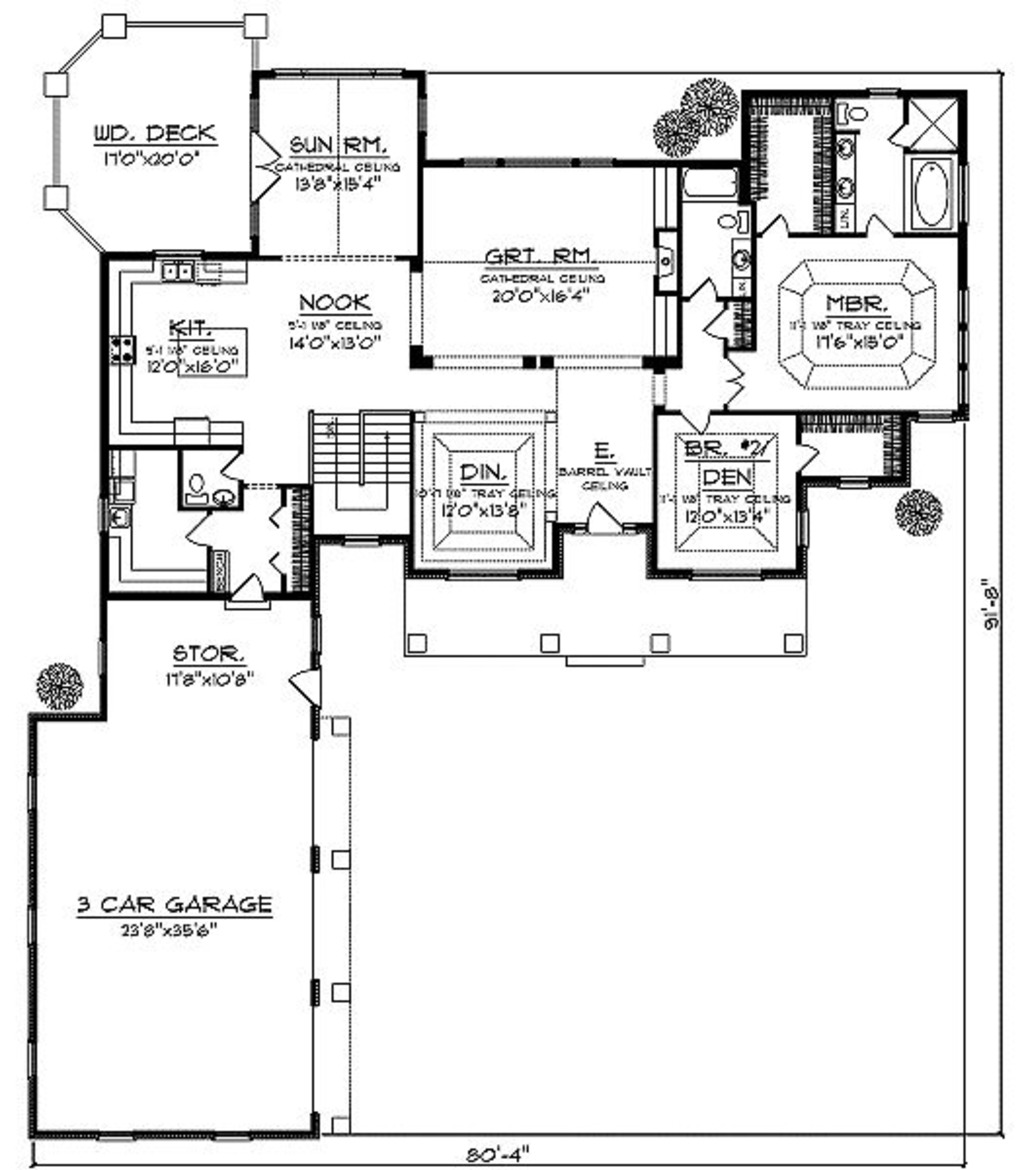door: (244, 129, 285, 205), (285, 661, 332, 716), (581, 498, 633, 543), (714, 348, 754, 406), (228, 576, 270, 619), (683, 268, 724, 305), (176, 513, 217, 547)
stairs: (302, 400, 422, 558)
tub: (904, 151, 961, 240), (674, 161, 739, 200)
twin_sink: (159, 255, 202, 287)
windows: (257, 62, 409, 87), (949, 280, 976, 413), (19, 1037, 49, 1080), (19, 767, 41, 825), (18, 901, 39, 953)
